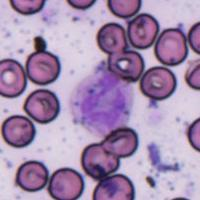N: (69, 66, 133, 137)
